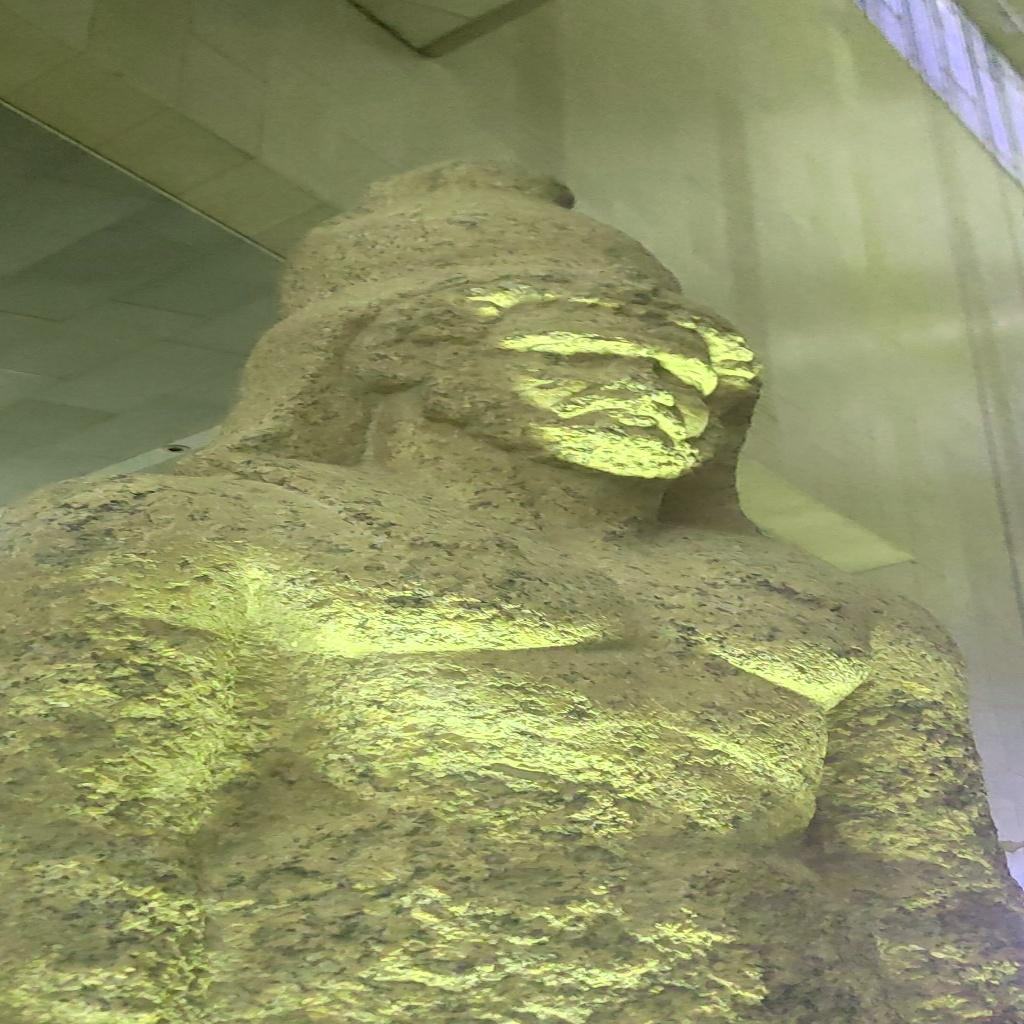Statue of Carcala: (6, 156, 1015, 1020)
